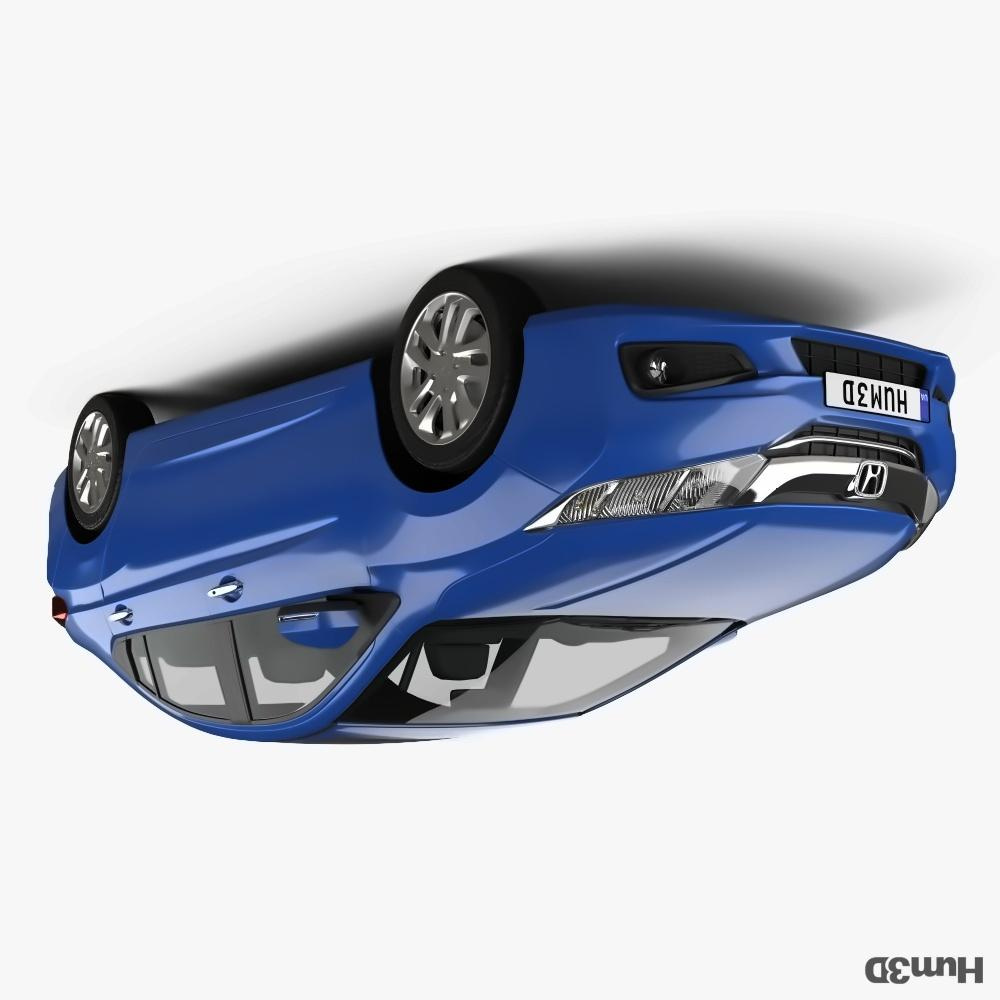Car hood: (433, 498, 921, 631)
Fender - -F-L-: (359, 363, 573, 638)
Fender - -R-L-: (53, 444, 132, 626)
Front bumper: (497, 294, 975, 493)
Headlight - -L-: (519, 446, 772, 535)
Passenger-s door - -F-L-: (204, 379, 359, 738)
Passenger-s door - -R-L-: (96, 403, 242, 744)
Rear bumper: (36, 452, 75, 594)
Rear light - -L-: (29, 586, 75, 633)
Side bumper - -L-: (117, 350, 384, 465)
Side mirror - -L-: (270, 590, 368, 655)
